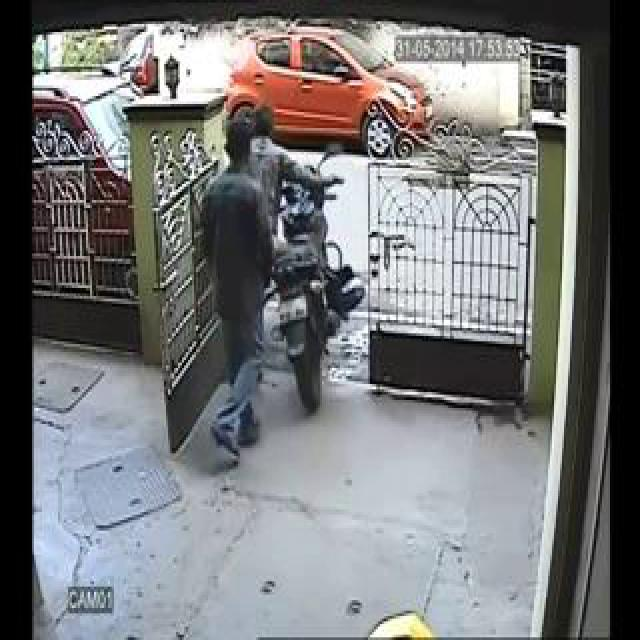stealing: (196, 58, 384, 542)
